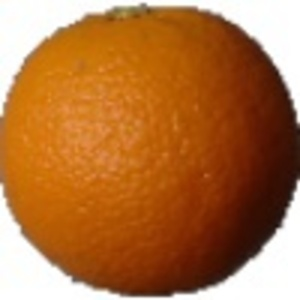laranja: (2, 5, 298, 298)
